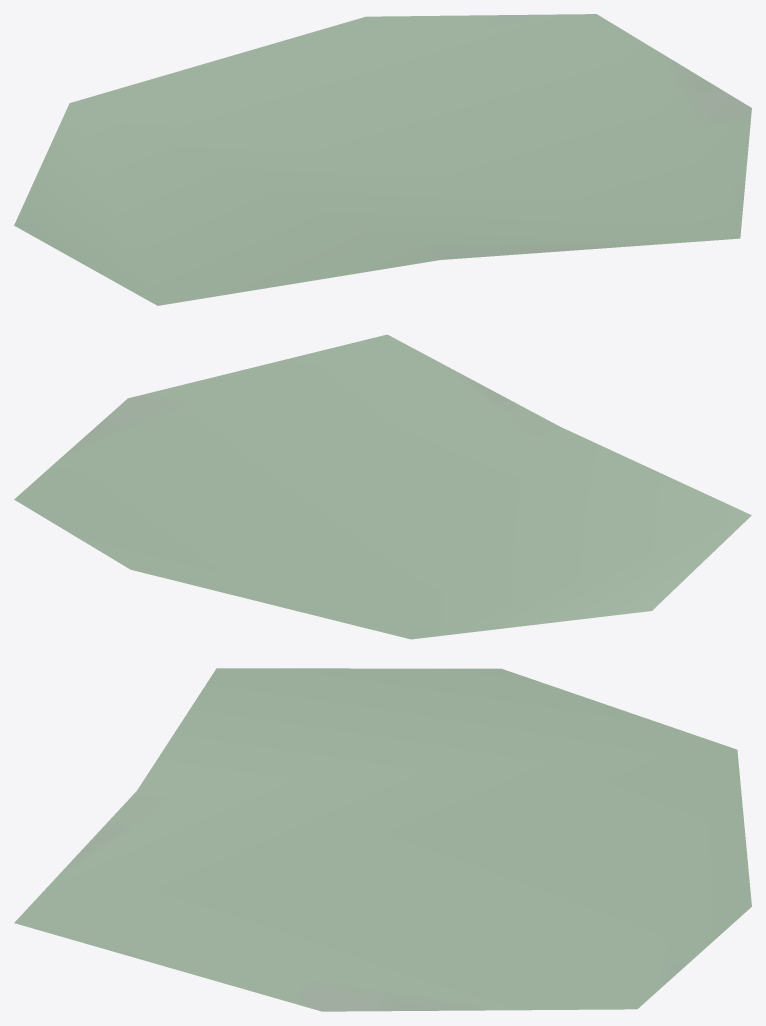
Rendered from TROLLHOLE02_HOLECAP26.fbx.
3 renders of one model, top to bottom at view 1: azimuth 30°, elevation 25°; view 2: azimuth 150°, elevation 25°; view 3: azimuth 270°, elevation 25°, orthographic. The views are drawn at different scales.
Visible parts, largest first — view 1: TROLLHOLE02_HOLECAP26; view 2: TROLLHOLE02_HOLECAP26; view 3: TROLLHOLE02_HOLECAP26.
Part boxes in pixels (x1,y1,x2,y2): TROLLHOLE02_HOLECAP26: (14, 14, 751, 305); TROLLHOLE02_HOLECAP26: (14, 334, 751, 639); TROLLHOLE02_HOLECAP26: (14, 668, 751, 1011).
Bounding box in the file's own units: 22476 × 709 × 19455.
Materials: 1 (1 with a texture image).
